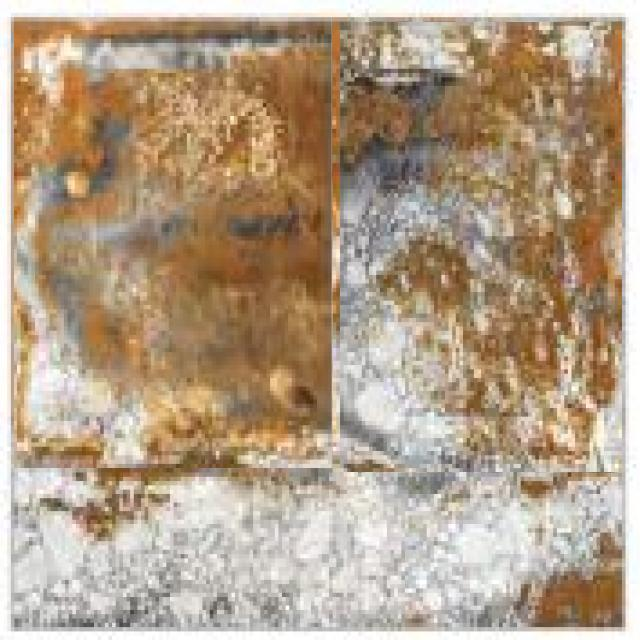Corrosion: (418, 22, 623, 274), (88, 41, 331, 220), (103, 206, 331, 336), (536, 534, 624, 628)
